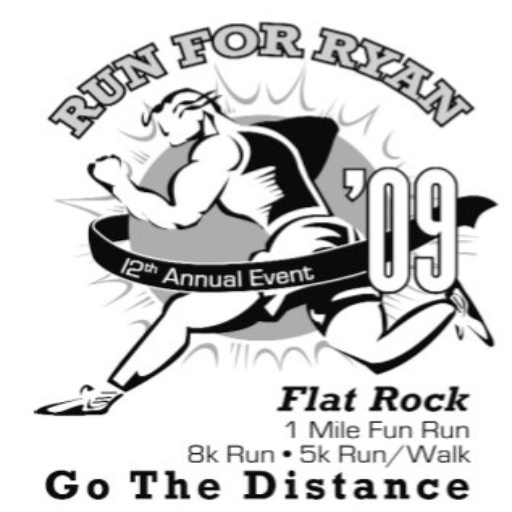hand: (83, 155, 129, 186)
